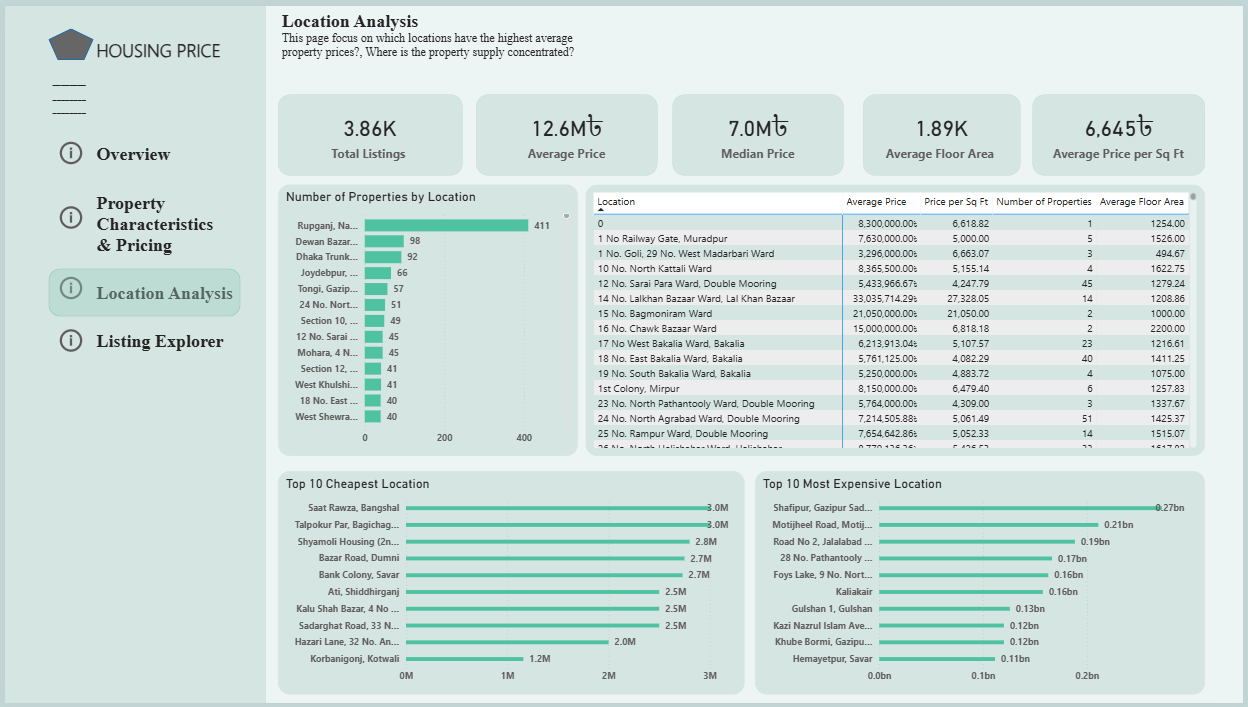

Layout of this report page (visuals, bound fields, positions):
{"tool":"powerbi","page":{"name":"Location Analysis","canvas":[1650,930],"ordinal":2},"visuals":[{"type":"pivotTable","fields":{"Rows":["house pricing.Location"],"Values":["Avg(house pricing.Price_in_taka)","house pricing.Price per Sq Ft","CountNonNull(house pricing.Description )","Avg(house pricing.Floor_area)"]},"box":[774,238,826,362],"z":0},{"type":"clusteredBarChart","title":"Top 10 Most Expensive Location","fields":{"Category":["house pricing.Location"],"Y":["Avg(house pricing.Price_in_taka)"]},"box":[1000,620,600,298],"z":1000},{"type":"clusteredBarChart","title":"Top 10 Cheapest Location","fields":{"Category":["house pricing.Location"],"Y":["Avg(house pricing.Price_in_taka)"]},"box":[364,620,622,298],"z":2000},{"type":"clusteredBarChart","title":"Number of Properties by Location","fields":{"Category":["house pricing.Location"],"Y":["CountNonNull(house pricing.Description )"]},"box":[364,238,400,362],"z":3000},{"type":"card","fields":{"Values":["Avg(house pricing.Price_in_taka)"]},"box":[628,118,242,108],"z":4000},{"type":"card","fields":{"Values":["Median(house pricing.Price_in_taka)"]},"box":[890,118,228,108],"z":5000},{"type":"card","fields":{"Values":["Avg(house pricing.Floor_area)"]},"box":[1144,118,210,108],"z":6000},{"type":"card","fields":{"Values":["house pricing.Price per Sq Ft"]},"box":[1370,118,230,108],"z":7000},{"type":"card","fields":{"Values":["CountNonNull(house pricing.Description )"]},"box":[364,118,246,108],"z":8000},{"type":"textbox","box":[0,0,348,930],"z":9000},{"type":"shape","box":[58,30,60,42],"z":10000},{"type":"actionButton","box":[68,356,50,40],"z":11000},{"type":"actionButton","box":[68,176,50,40],"z":12000},{"type":"shape","box":[58,350,256,64],"z":13000},{"type":"actionButton","box":[68,262,50,40],"z":14000},{"type":"actionButton","box":[68,426,50,40],"z":15000},{"type":"textbox","box":[364,0,424,102],"z":16000}]}

Visuals, with their boxes in screenshot pixels (x1, y1, x2, y2), scaled from the page's 1650x930 canvas onto the 1248x707 screenshot:
pivotTable - house pricing.Location x Avg(house pricing.Price_in_taka): x1=585 y1=181 x2=1210 y2=456
"Top 10 Most Expensive Location" clusteredBarChart: x1=756 y1=471 x2=1210 y2=698
"Top 10 Cheapest Location" clusteredBarChart: x1=275 y1=471 x2=746 y2=698
"Number of Properties by Location" clusteredBarChart: x1=275 y1=181 x2=578 y2=456
card - Avg(house pricing.Price_in_taka): x1=475 y1=90 x2=658 y2=172
card - Median(house pricing.Price_in_taka): x1=673 y1=90 x2=846 y2=172
card - Avg(house pricing.Floor_area): x1=865 y1=90 x2=1024 y2=172
card - house pricing.Price per Sq Ft: x1=1036 y1=90 x2=1210 y2=172
card - CountNonNull(house pricing.Description ): x1=275 y1=90 x2=461 y2=172
textbox: x1=0 y1=0 x2=263 y2=706
shape: x1=44 y1=23 x2=89 y2=55
actionButton: x1=51 y1=271 x2=89 y2=301
actionButton: x1=51 y1=134 x2=89 y2=164
shape: x1=44 y1=266 x2=237 y2=315
actionButton: x1=51 y1=199 x2=89 y2=230
actionButton: x1=51 y1=324 x2=89 y2=354
textbox: x1=275 y1=0 x2=596 y2=78
